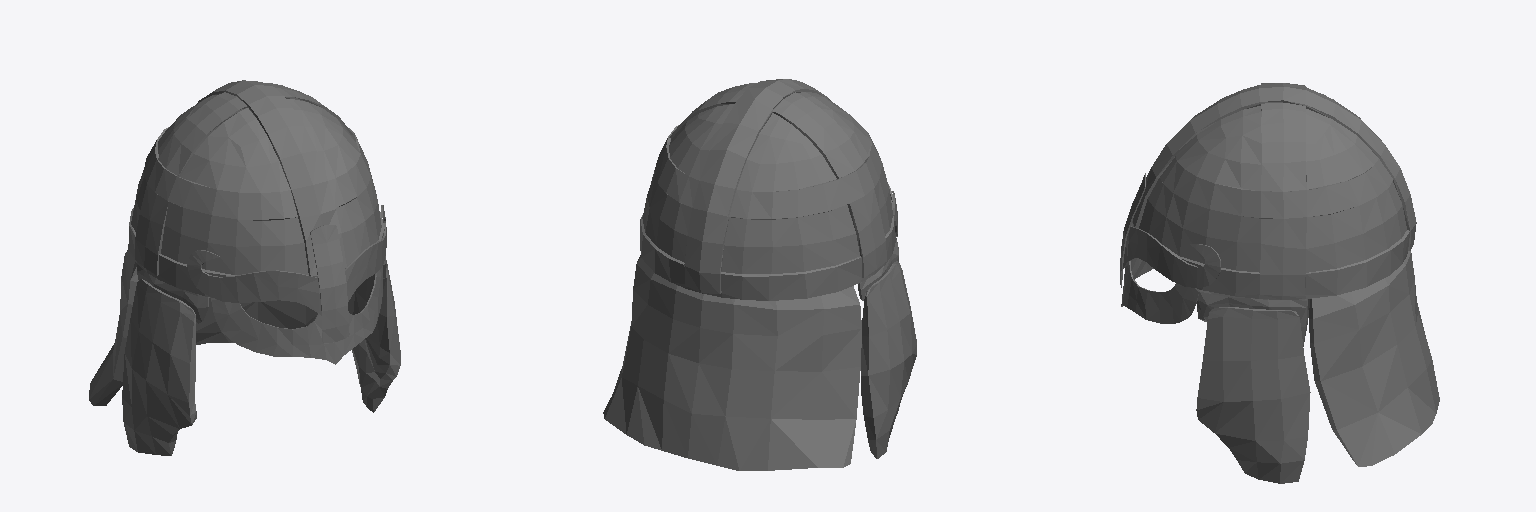
3 views of the same model, side by side, from view 1: azimuth 30°, elevation 25°; view 2: azimuth 150°, elevation 25°; view 3: azimuth 270°, elevation 25° (orthographic).
Parts seen in each view (by area): view 1: helmet:polySurface1 helmet:rig_posed:Helmet helmet:rig_posed:vik, helmet:rig_posed:Helmet helmet:rig_posed:viking helmet:polySurfa; view 2: helmet:rig_posed:Helmet helmet:rig_posed:viking helmet:polySurfa, helmet:polySurface1 helmet:rig_posed:Helmet helmet:rig_posed:vik; view 3: helmet:polySurface1 helmet:rig_posed:Helmet helmet:rig_posed:vik, helmet:rig_posed:Helmet helmet:rig_posed:viking helmet:polySurfa.
Boxes of the visible parts, x1=… form: helmet:polySurface1 helmet:rig_posed:Helmet helmet:rig_posed:vik: x1=128, y1=80, x2=384, y2=297; helmet:rig_posed:Helmet helmet:rig_posed:viking helmet:polySurfa: x1=89, y1=205, x2=400, y2=455; helmet:rig_posed:Helmet helmet:rig_posed:viking helmet:polySurfa: x1=603, y1=184, x2=916, y2=470; helmet:polySurface1 helmet:rig_posed:Helmet helmet:rig_posed:vik: x1=640, y1=79, x2=896, y2=300; helmet:polySurface1 helmet:rig_posed:Helmet helmet:rig_posed:vik: x1=1132, y1=83, x2=1416, y2=299; helmet:rig_posed:Helmet helmet:rig_posed:viking helmet:polySurfa: x1=1120, y1=173, x2=1439, y2=483.
Size of the model in its own units: 23.44 by 30.82 by 26.36.